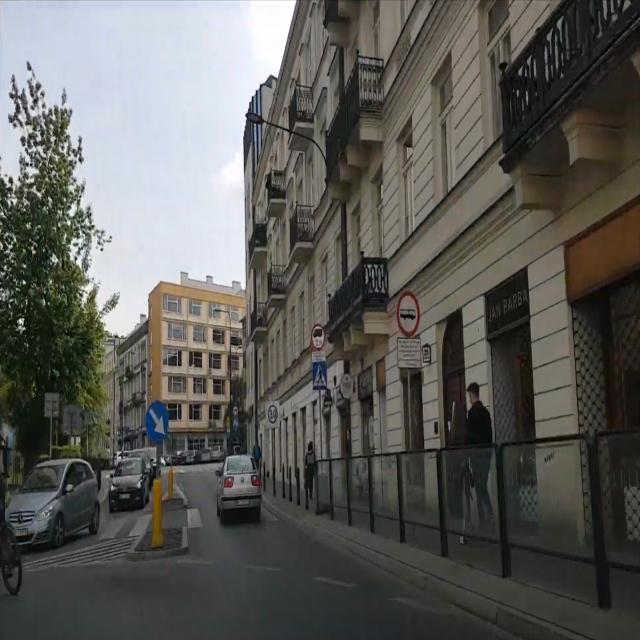Przejscie dla pieszych: (312, 361, 327, 388)
